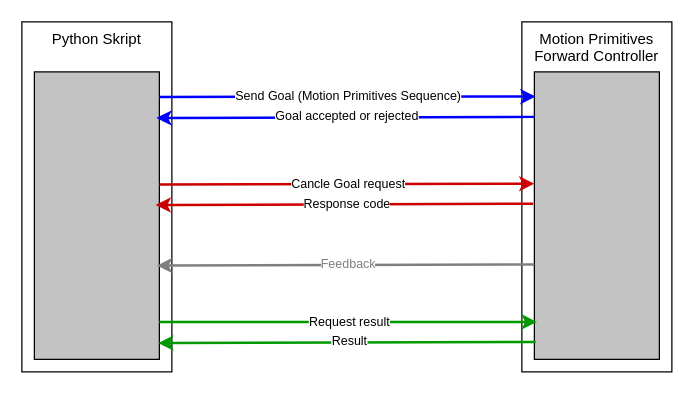
This 694x394 diagram has some shape labels left out. Each missing label, with the centre of its shape:
Action Client: the point at 96,215
Action Server: the point at 596,215
